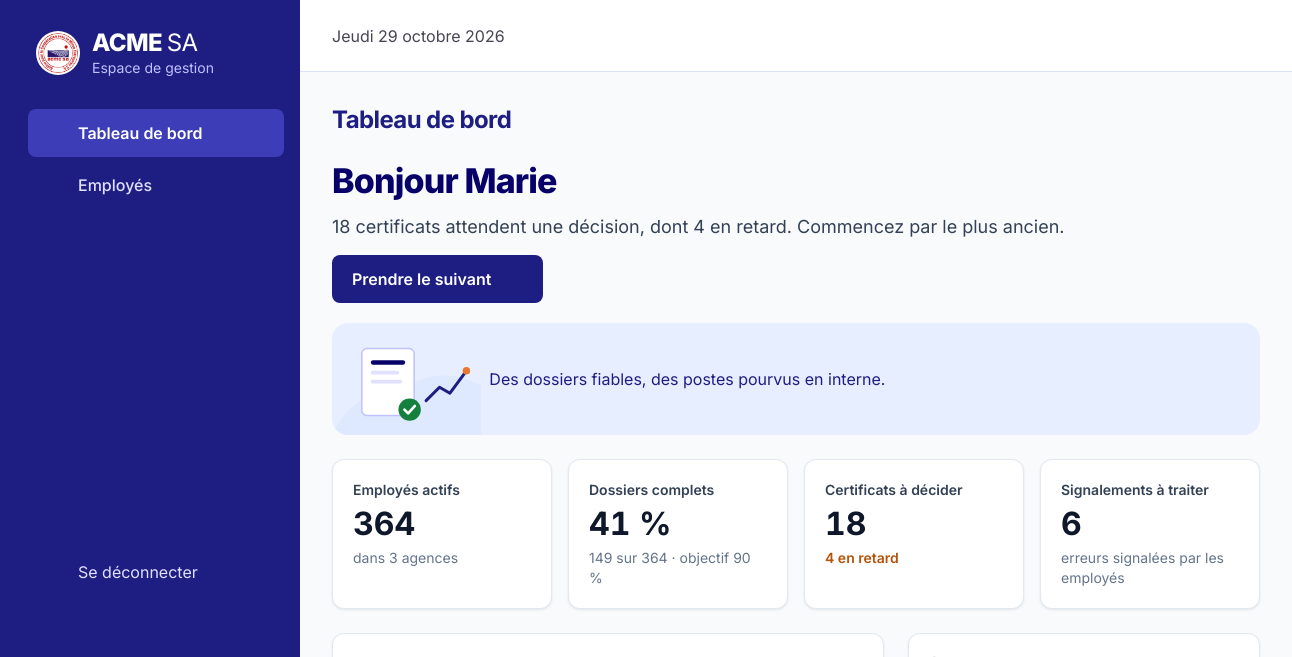
Test: US-132 CA-01 — en-tête › plus rien dans la file : un message près du bouton
Click the button "Prendre le suivant" at coordinates (438, 279), box [332, 255, 543, 303]
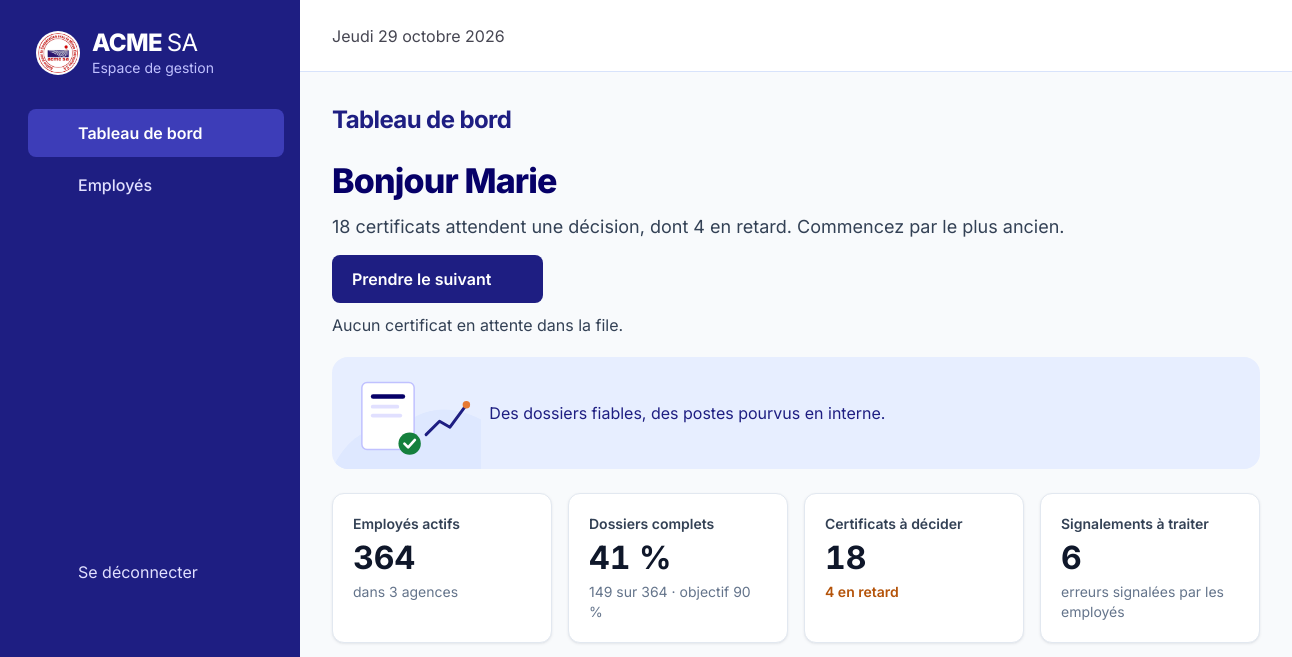
Check: the text "Aucun certificat en attente dans la file." is shown, box [332, 315, 623, 335]
